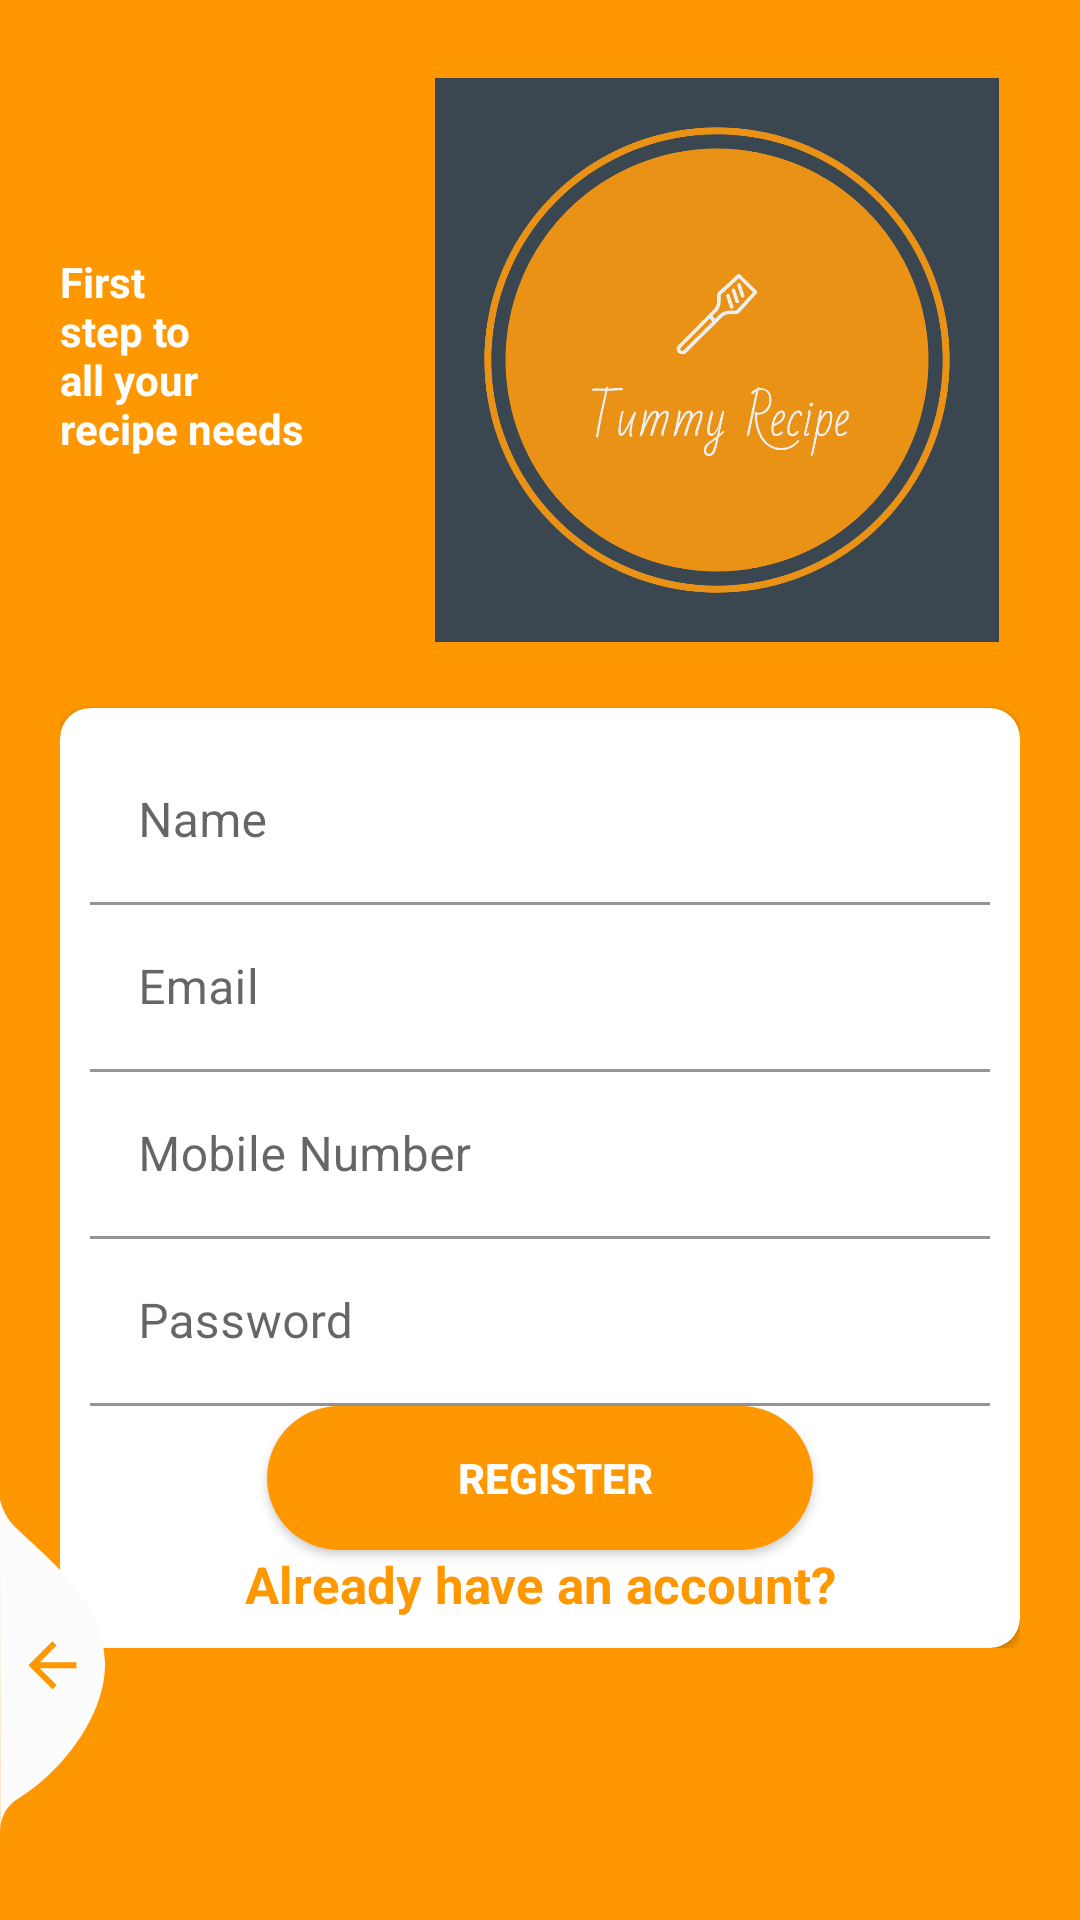

Named icons in this screenshot (1080*1920) and their bounding boxes, [x1, y1, x2, y2]:
back: [0, 1500, 105, 1829]
